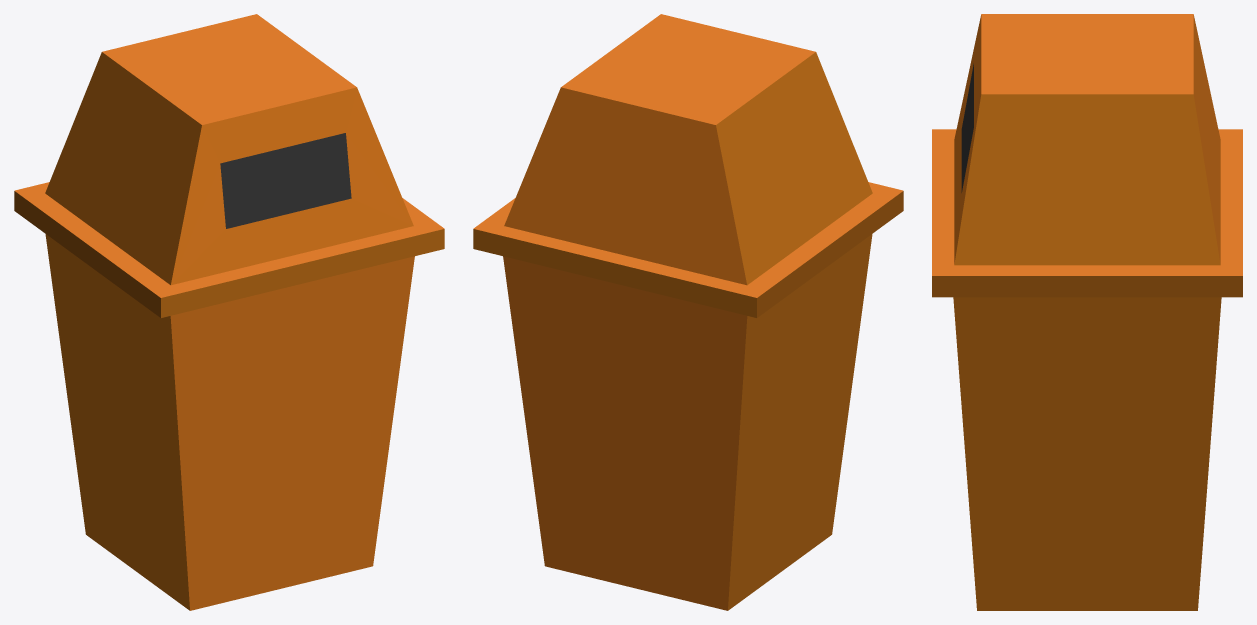
File: SM_RecycleBin_Orange_01.fbx
The picture shows the model from 3 angles, left to right: view 1: azimuth 30°, elevation 25°; view 2: azimuth 150°, elevation 25°; view 3: azimuth 270°, elevation 25°; orthographic projection. The views are drawn at different scales.
Parts seen in each view (by area): view 1: SM_RecycleBin_Orange_01; view 2: SM_RecycleBin_Orange_01; view 3: SM_RecycleBin_Orange_01.
Boxes of the visible parts, bbox=[...] form: SM_RecycleBin_Orange_01: bbox=[14, 14, 444, 610]; SM_RecycleBin_Orange_01: bbox=[473, 14, 903, 610]; SM_RecycleBin_Orange_01: bbox=[932, 14, 1242, 610].
Bounding box in the file's own units: 1.02 × 1.66 × 0.9159.
